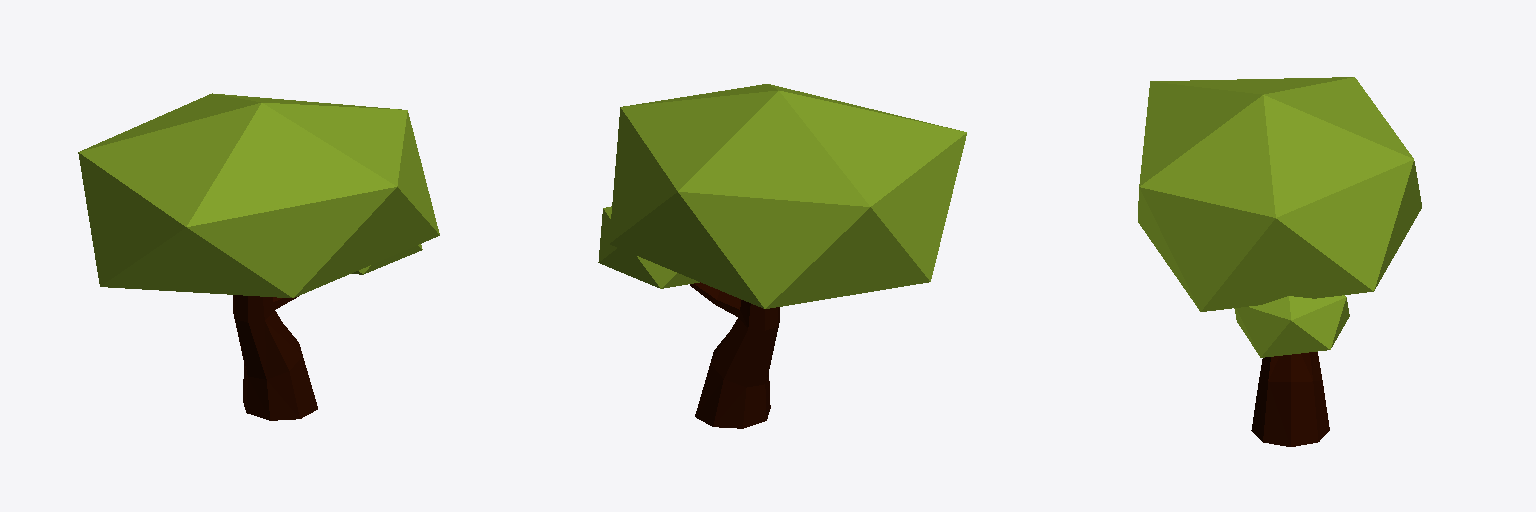
File: Bush2.obj
The picture shows the model from 3 angles: view 1: azimuth 30°, elevation 25°; view 2: azimuth 150°, elevation 25°; view 3: azimuth 270°, elevation 25°; orthographic projection.
Visible parts, largest first — view 1: Bush2_Icosphere.002; view 2: Bush2_Icosphere.002; view 3: Bush2_Icosphere.002.
Part boxes in pixels (left/top/right/bottom): Bush2_Icosphere.002: left=78, top=93, right=439, bottom=420; Bush2_Icosphere.002: left=598, top=84, right=966, bottom=428; Bush2_Icosphere.002: left=1138, top=77, right=1421, bottom=446.
Bounding box in the file's own units: 0.9968 × 0.9567 × 0.7714.